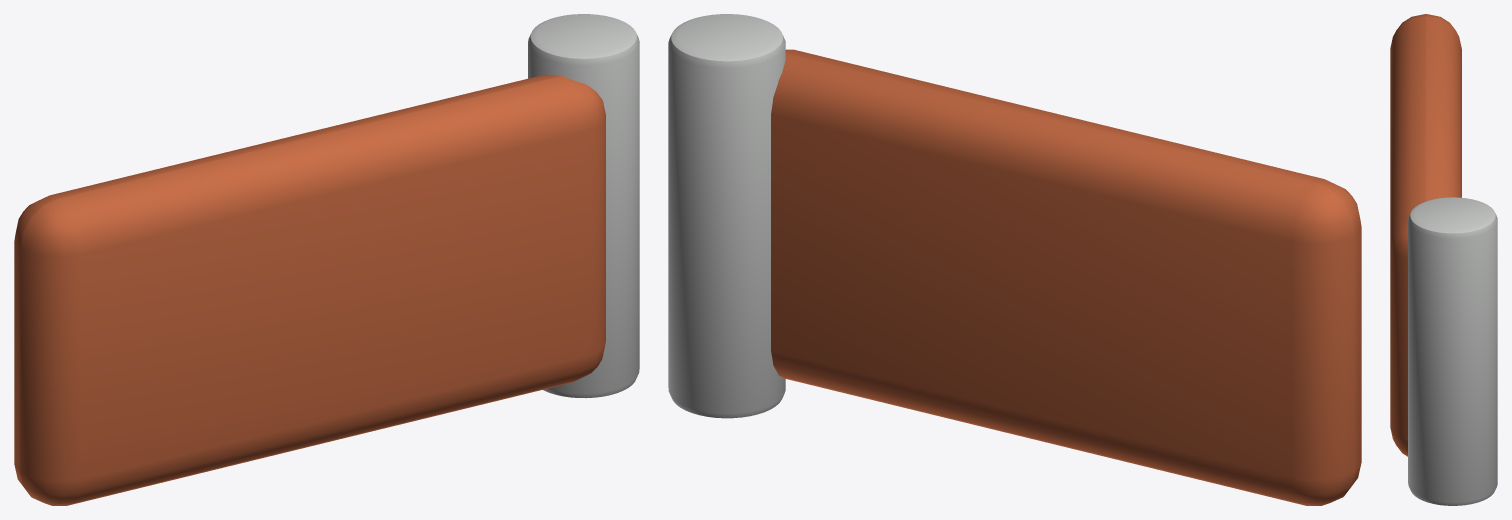
File: oscillating_multi_tool_release_lever.glb
3 views of the same model, side by side, from view 1: azimuth 30°, elevation 25°; view 2: azimuth 150°, elevation 25°; view 3: azimuth 270°, elevation 25° (orthographic). The views are drawn at different scales.
Visible parts, largest first — view 1: oscillating_multi_tool_release_lever; view 2: oscillating_multi_tool_release_lever; view 3: oscillating_multi_tool_release_lever.
Boxes of the visible parts, box(x1,y1,x2,y2) form: oscillating_multi_tool_release_lever: box(14, 14, 639, 505); oscillating_multi_tool_release_lever: box(668, 14, 1361, 505); oscillating_multi_tool_release_lever: box(1390, 14, 1497, 505).
Size of the model in its own units: 0.065 by 0.034 by 0.012.
